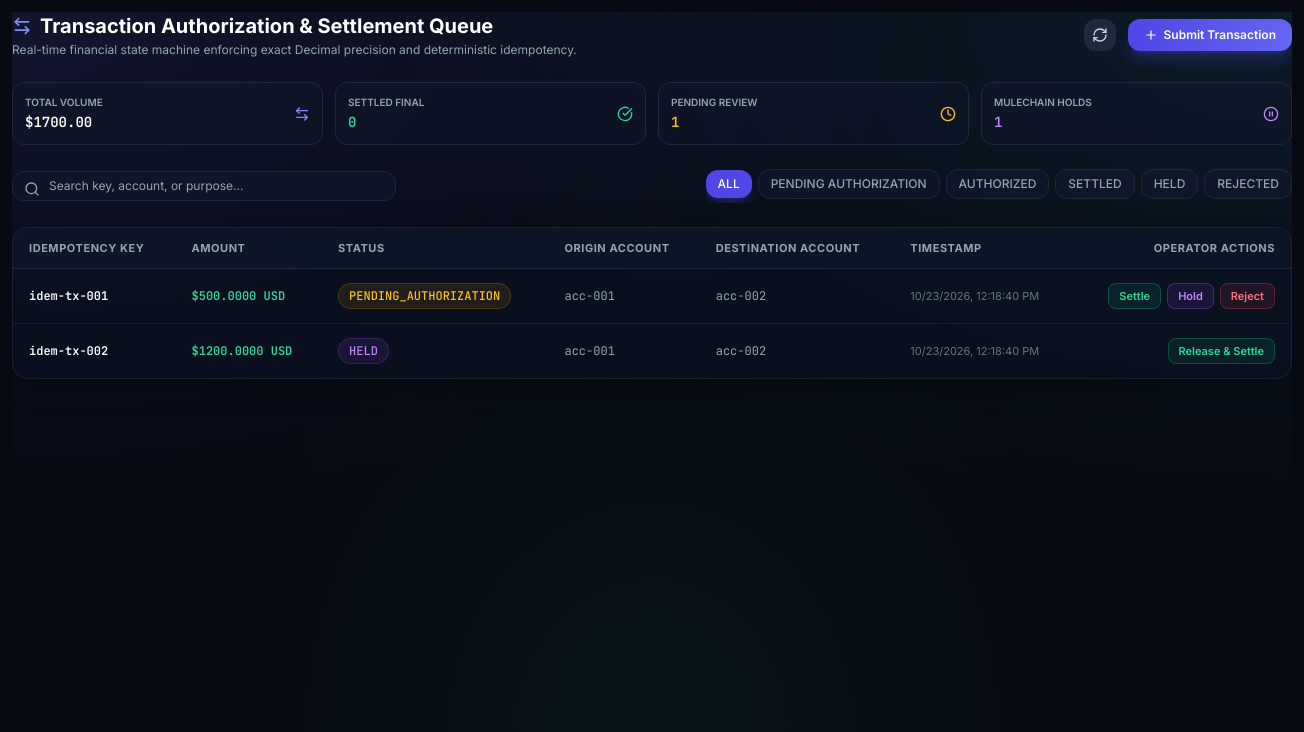
Test: TransactionsQueuePage Component › renders queue table and filters transactions by status
Expected: the text "idem-tx-001" is shown, x1=13 y1=268 x2=176 y2=324
Expected: the text "idem-tx-002" is shown, x1=13 y1=324 x2=176 y2=378
# Filter by HELD
Click the button "HELD".
click(1170, 184)  # box x1=1141 y1=169 x2=1198 y2=199
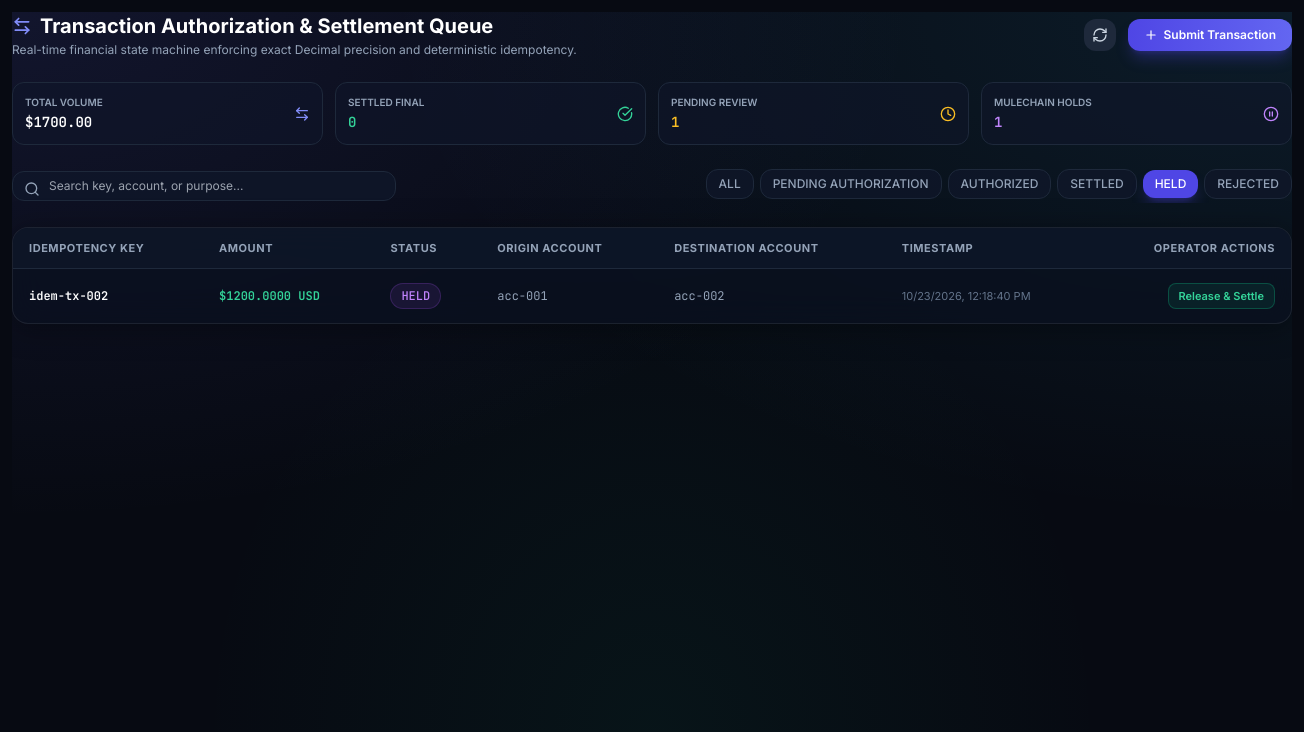
Expected: the text "idem-tx-002" is shown, x1=13 y1=268 x2=203 y2=323
Expected: the text "idem-tx-001" is gone
